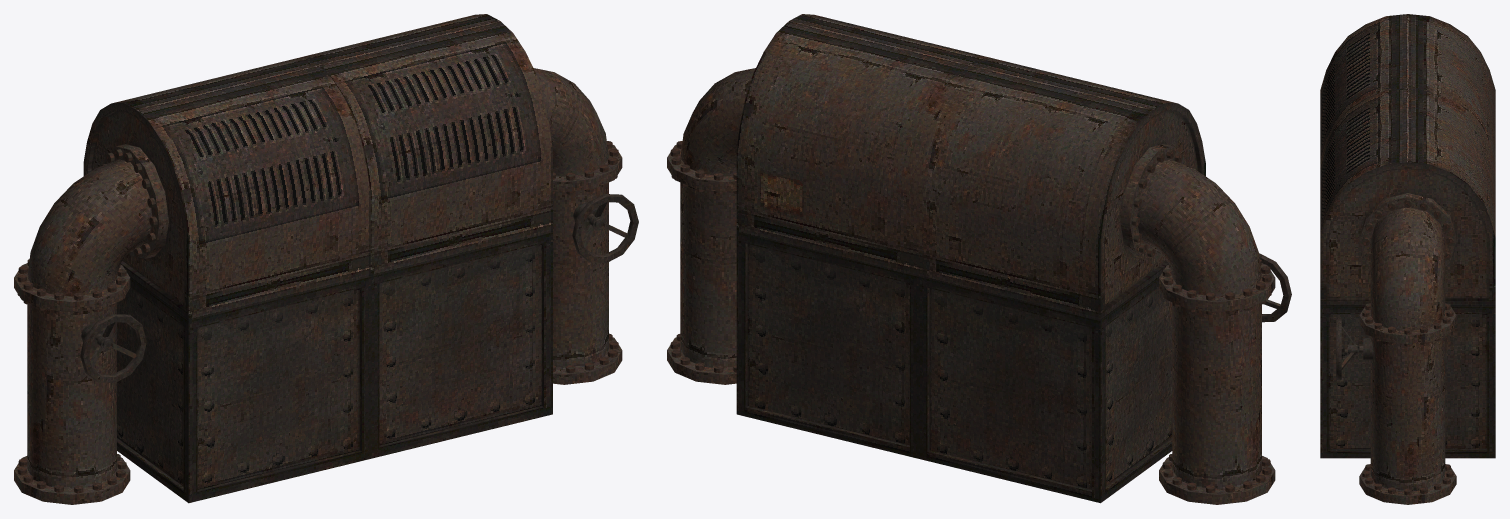
Rendered from machinery_mx_1.glb.
3 renders of one model, left to right at view 1: azimuth 30°, elevation 25°; view 2: azimuth 150°, elevation 25°; view 3: azimuth 270°, elevation 25°, orthographic. The views are drawn at different scales.
Visible parts, largest first — view 1: machinery_mx_1; view 2: machinery_mx_1; view 3: machinery_mx_1.
Part boxes in pixels (bbox=[...]): machinery_mx_1: bbox=[14, 14, 638, 504]; machinery_mx_1: bbox=[667, 14, 1291, 504]; machinery_mx_1: bbox=[1320, 14, 1495, 504].
Bounding box in the file's own units: 3.06 × 1.75 × 0.94.
Materials: 1 (1 with a texture image).
